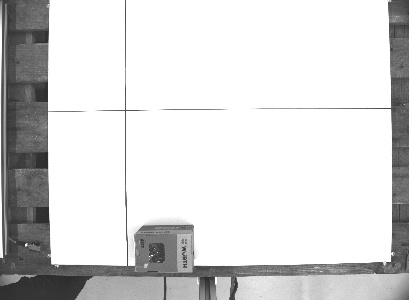b4: (130, 222, 195, 275)
